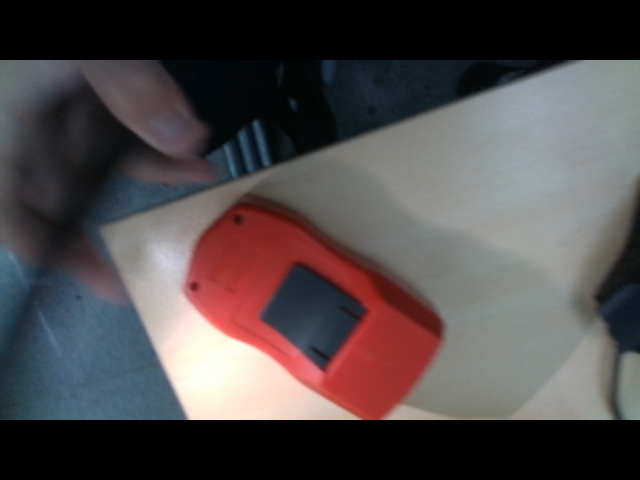Multimeter: (179, 192, 446, 420)
Screw holes: (231, 214, 247, 226), (189, 282, 200, 293)
